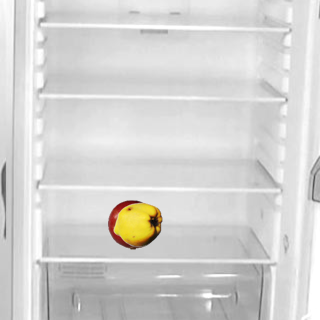Apple Braeburn: (107, 199, 157, 249)
Quince: (112, 199, 162, 249)
